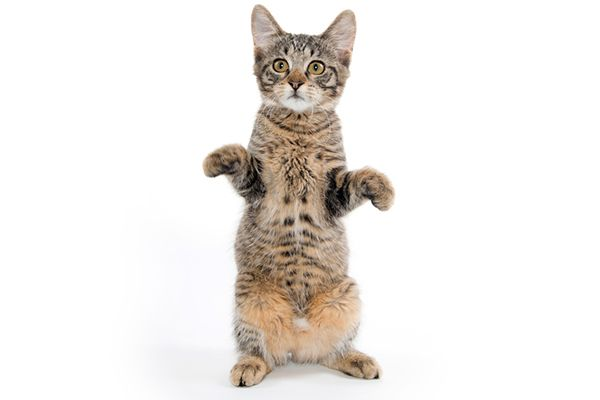cat: (205, 4, 396, 389)
